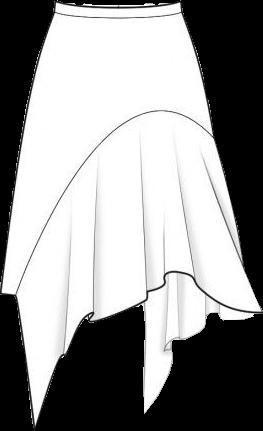Hemline: (14, 267, 262, 430)
Waistline: (2, 107, 217, 296), (52, 9, 181, 22), (56, 0, 179, 9)
